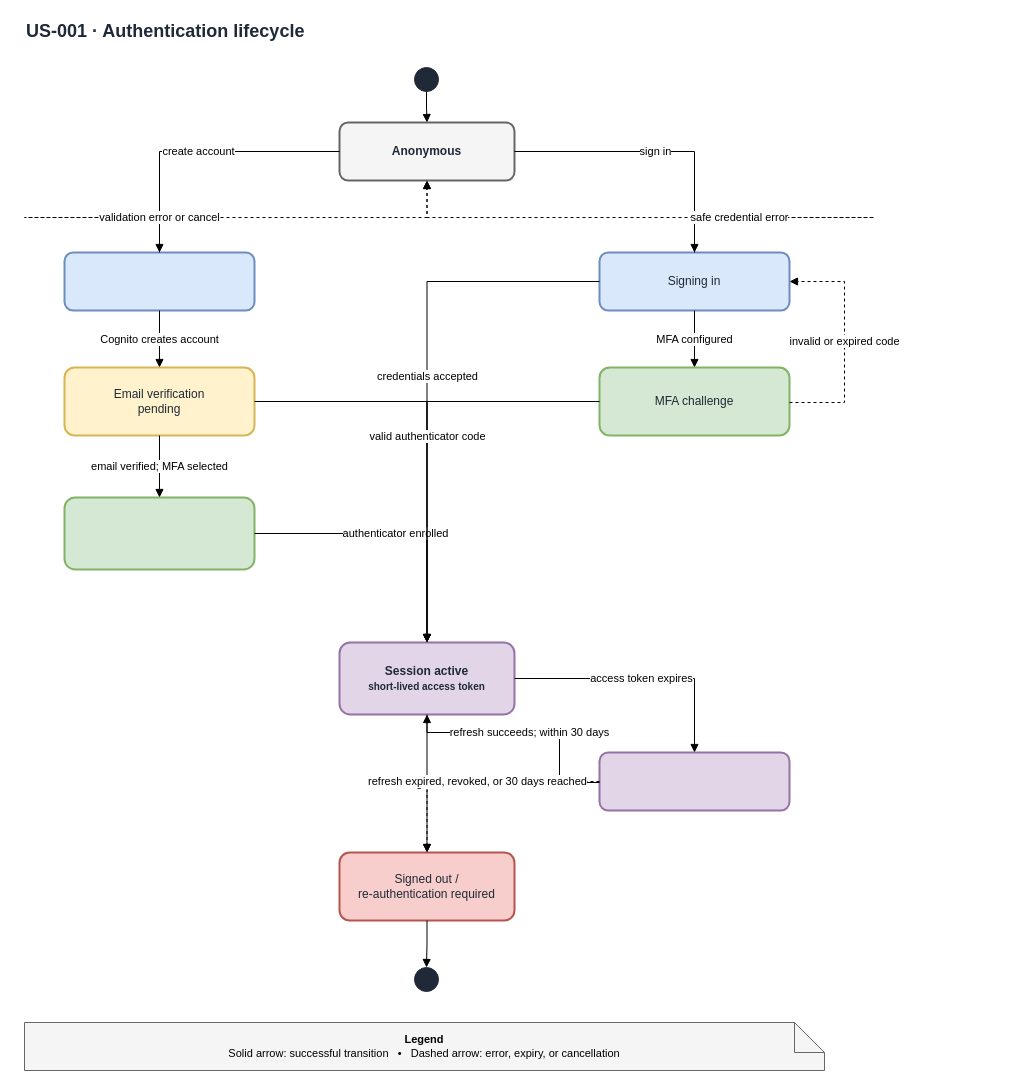
Image size: 1022x1088. Some labels were removed from this diagram. Each missing label, with the centre of its shape:
"MFA enrollment optional during registration" belongs at (x=159, y=533).
"Refreshing session" belongs at (x=694, y=781).
"Registering" belongs at (x=159, y=281).
